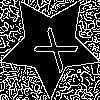X: (25, 20, 79, 74)
